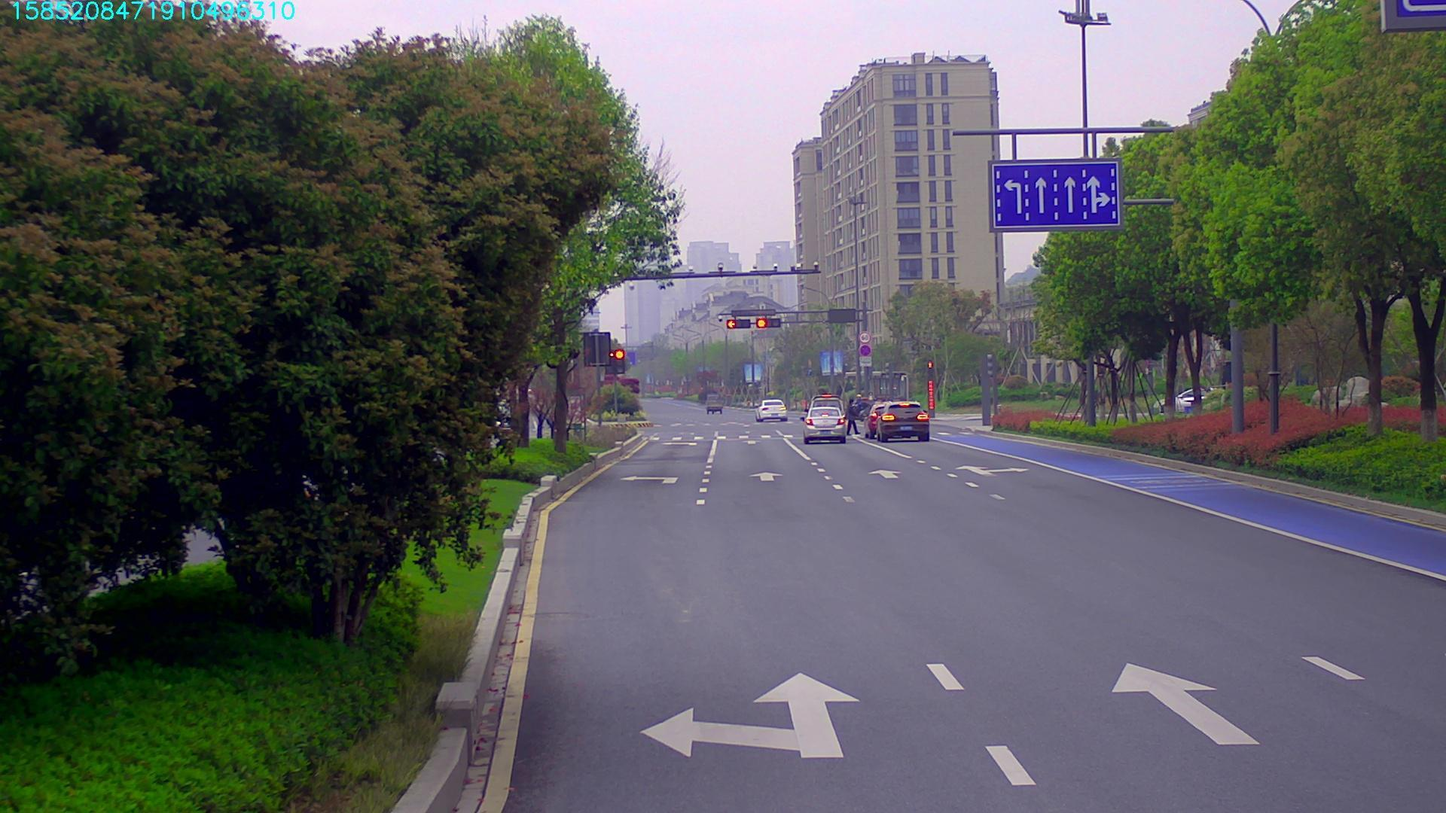red: (755, 318, 782, 330), (725, 318, 747, 326)
